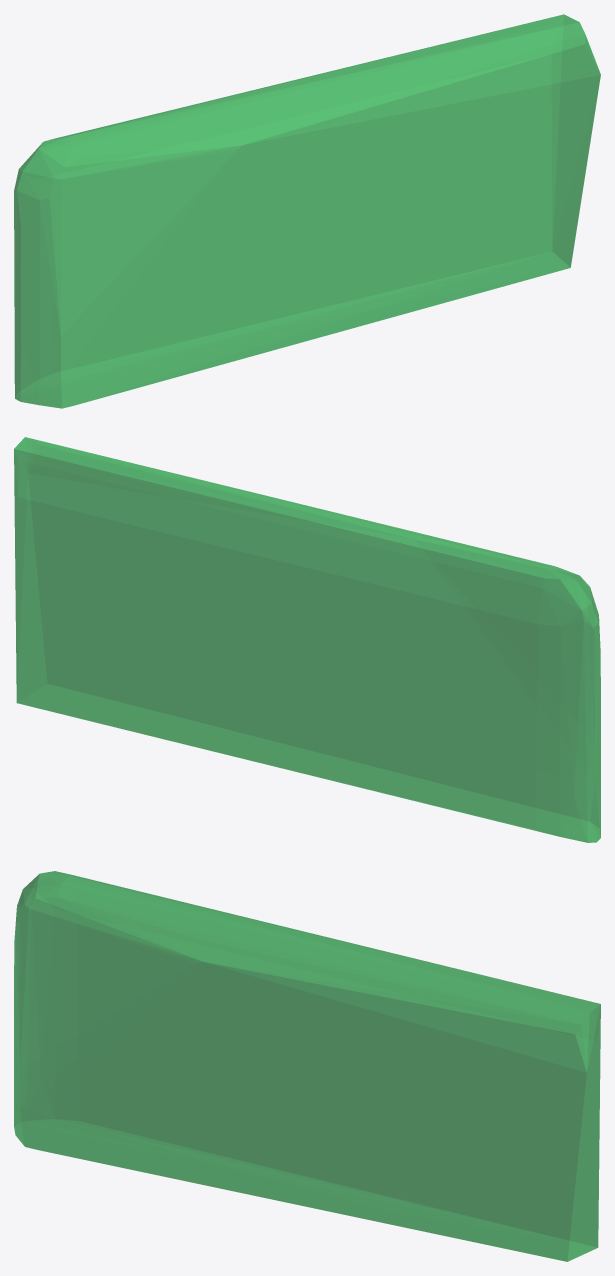
3 renders of one model, top to bottom at view 1: azimuth 30°, elevation 25°; view 2: azimuth 150°, elevation 25°; view 3: azimuth 330°, elevation 25°, orthographic. The views are drawn at different scales.
Parts seen in each view (by area): view 1: Shape_IndexedFaceSet.001_Shape_IndexedFaceSet.1144; view 2: Shape_IndexedFaceSet.001_Shape_IndexedFaceSet.1144; view 3: Shape_IndexedFaceSet.001_Shape_IndexedFaceSet.1144.
Part boxes in pixels (left/top/right/bottom): Shape_IndexedFaceSet.001_Shape_IndexedFaceSet.1144: left=14, top=14, right=600, bottom=408; Shape_IndexedFaceSet.001_Shape_IndexedFaceSet.1144: left=14, top=437, right=600, bottom=842; Shape_IndexedFaceSet.001_Shape_IndexedFaceSet.1144: left=14, top=871, right=600, bottom=1261.
Bounding box in the file's own units: 0.9319 × 0.3969 × 0.0996.
